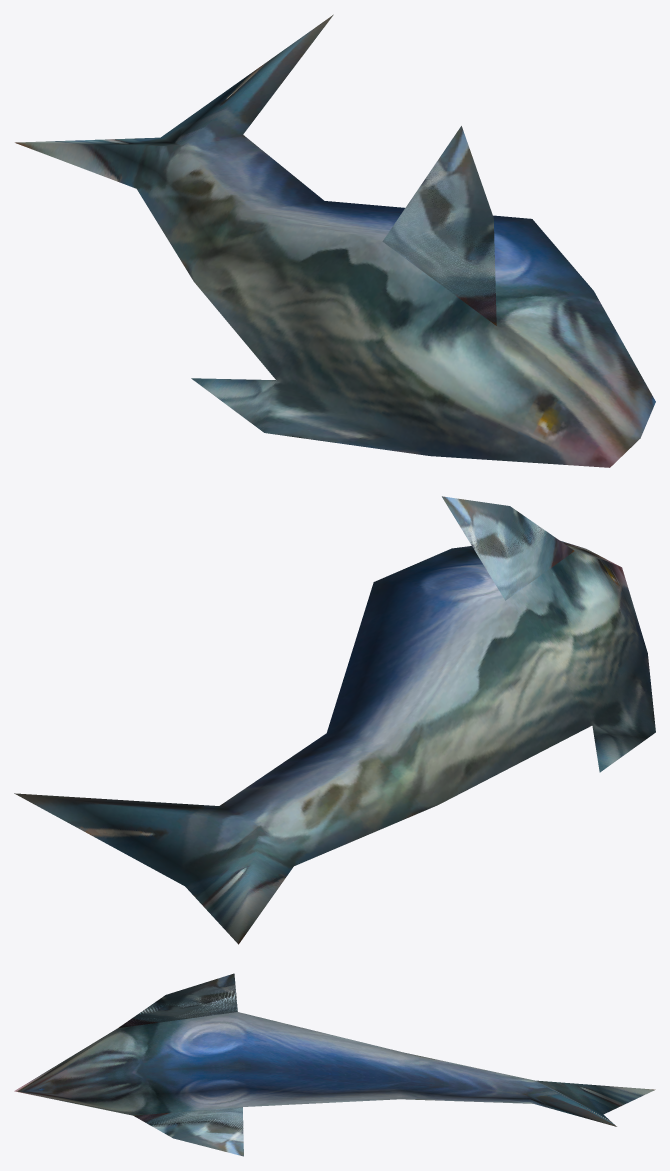
The model's file is fishdeadblue.obj.
3 views of the same model, one above another, from view 1: azimuth 30°, elevation 25°; view 2: azimuth 150°, elevation 25°; view 3: azimuth 270°, elevation 25° (orthographic). The views are drawn at different scales.
Parts seen in each view (by area): view 1: fishdeadblue; view 2: fishdeadblue; view 3: fishdeadblue.
Part boxes in pixels (x1,y1,x2,y2): fishdeadblue: (15,14,655,467); fishdeadblue: (14,496,655,944); fishdeadblue: (14,973,655,1156).
Bounding box in the file's own units: 0.3101 × 0.1823 × 0.6819.
Materials: 1 (1 with a texture image).
